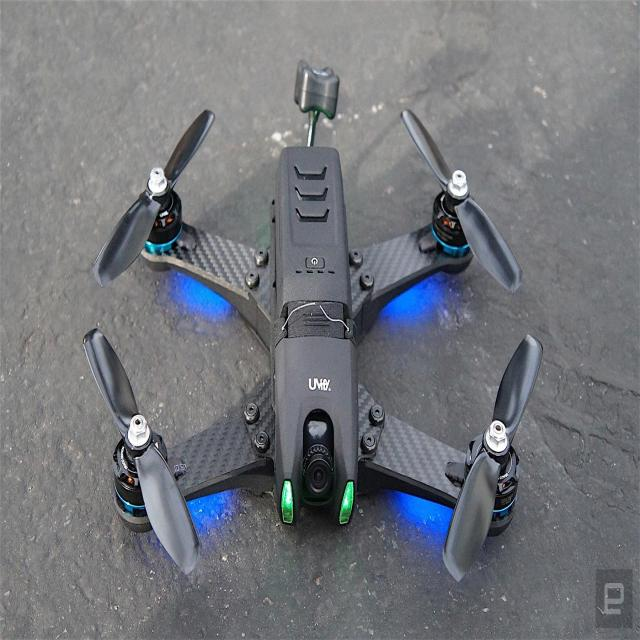drone: (94, 84, 562, 586)
